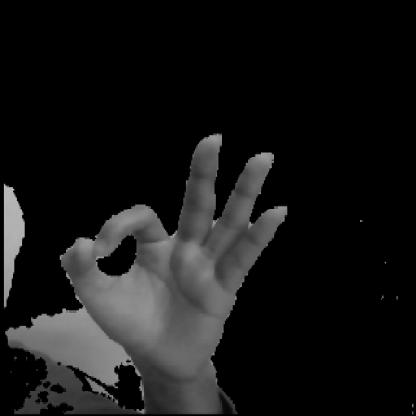ok: (58, 104, 310, 393)
